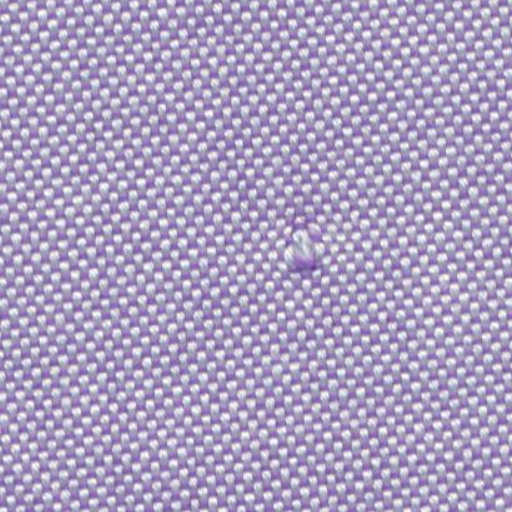MianQiu: (264, 200, 344, 287)
